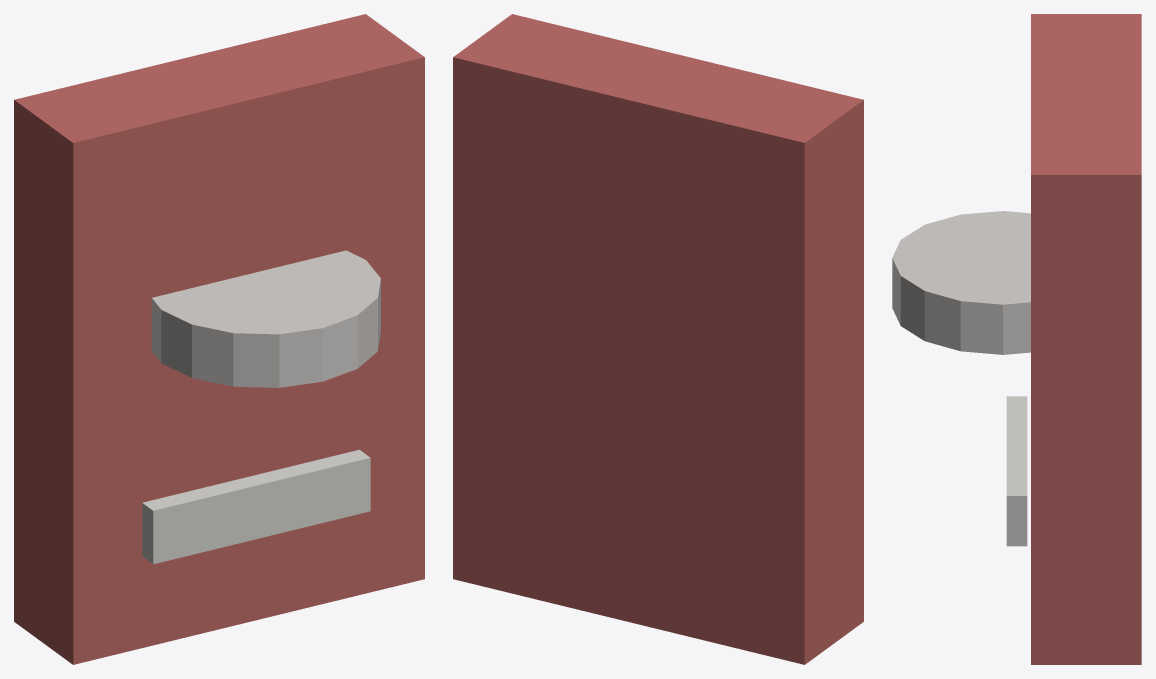
The model's file is alarm_lod1.glb.
3 renders of one model, left to right at view 1: azimuth 30°, elevation 25°; view 2: azimuth 150°, elevation 25°; view 3: azimuth 270°, elevation 25°, orthographic. The views are drawn at different scales.
Parts seen in each view (by area): view 1: part_0, part_1, part_2; view 2: part_0; view 3: part_0, part_1, part_2.
Part boxes in pixels (bbox=[...]): part_0: bbox=[14, 14, 424, 664]; part_1: bbox=[151, 250, 380, 387]; part_2: bbox=[142, 449, 370, 564]; part_0: bbox=[453, 14, 863, 664]; part_0: bbox=[1031, 14, 1141, 664]; part_1: bbox=[892, 211, 1030, 354]; part_2: bbox=[1006, 396, 1027, 546].
Size of the model in its own units: 0.55 by 0.78 by 0.36.
